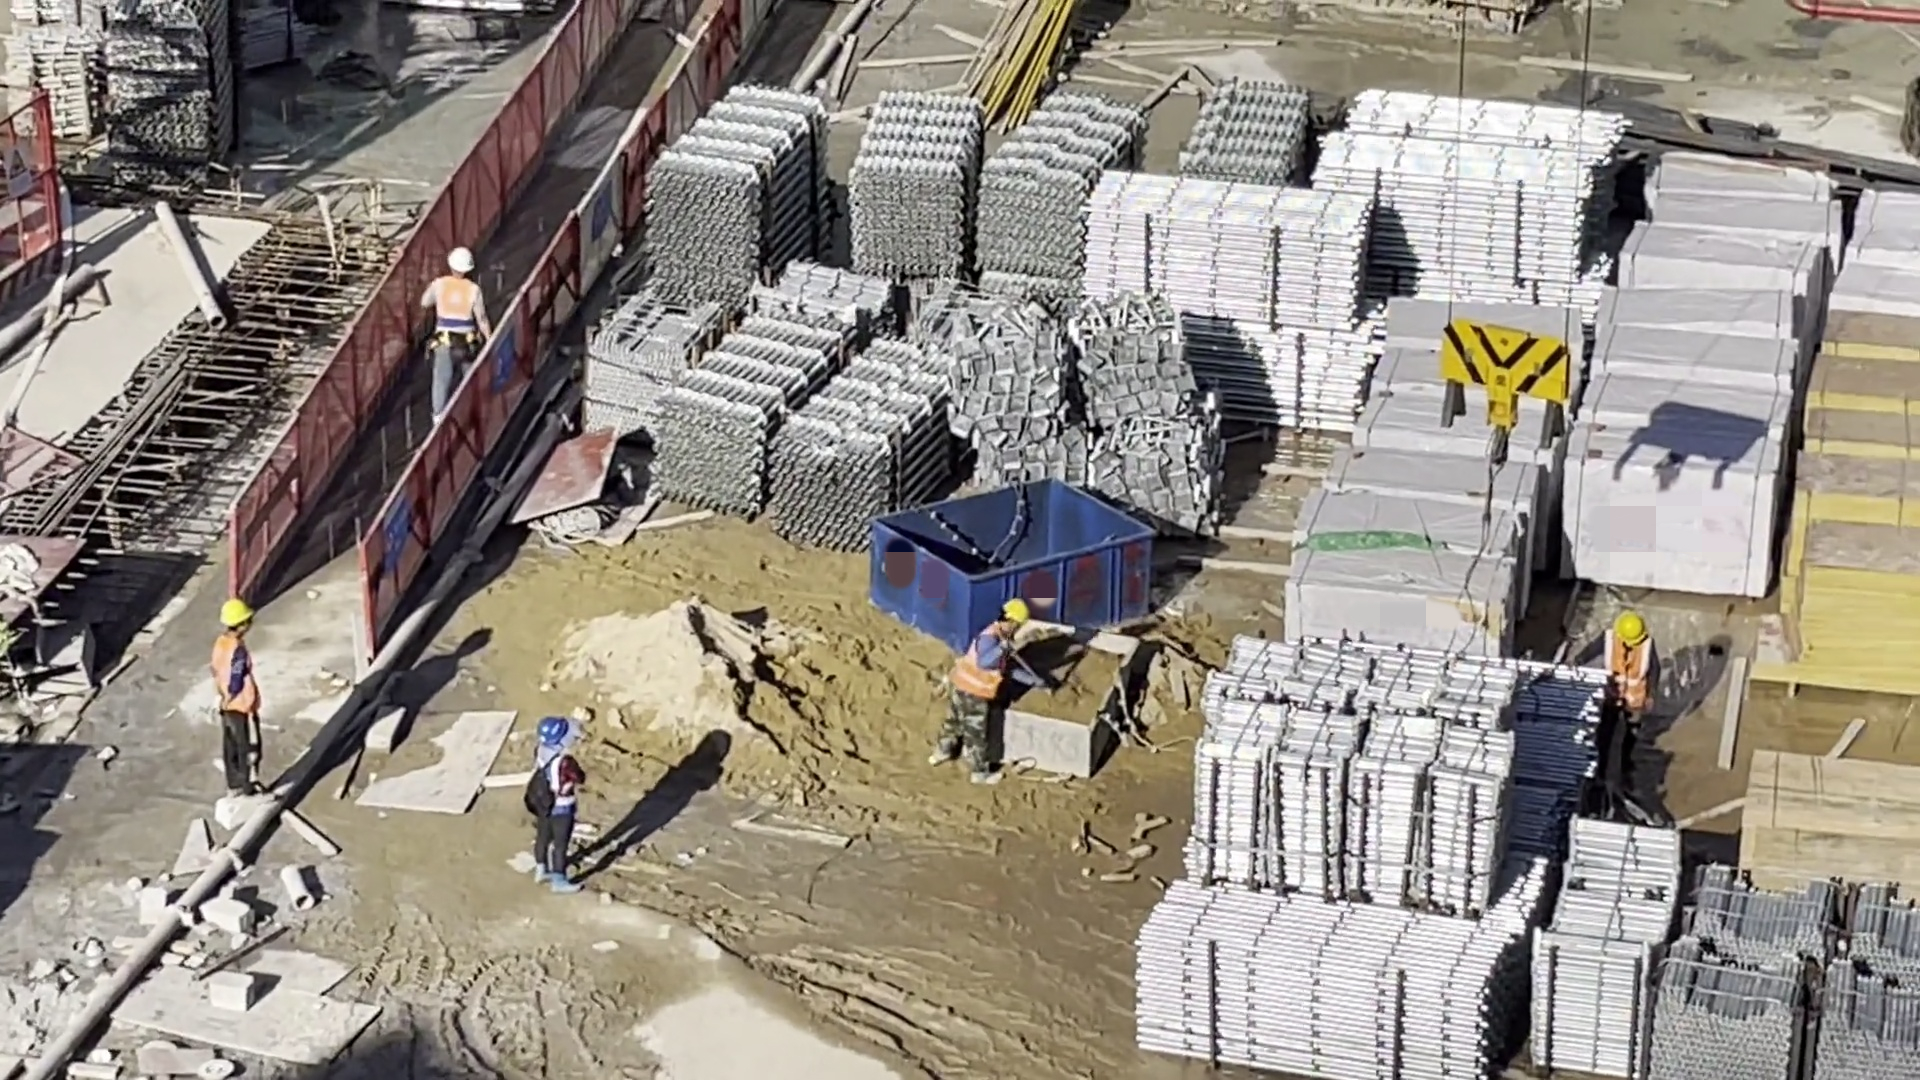fence: (211, 1, 791, 665)
helmet: (209, 599, 277, 650), (1608, 600, 1656, 653), (993, 586, 1034, 630), (436, 239, 474, 282), (539, 712, 574, 750)
hook: (1405, 292, 1567, 454)
hopper: (866, 440, 1140, 631), (982, 603, 1113, 771)
person: (184, 590, 270, 799), (941, 590, 1037, 778), (524, 712, 583, 904), (421, 240, 491, 393), (1584, 595, 1665, 718)
scaffold: (1145, 651, 1646, 1069), (1100, 169, 1372, 404), (1322, 78, 1554, 276), (638, 90, 839, 306), (1702, 877, 1911, 1063), (860, 93, 1065, 259), (736, 276, 902, 457), (1203, 62, 1313, 203)
vest: (207, 636, 259, 706), (966, 621, 1014, 695), (1603, 637, 1654, 695), (533, 757, 572, 817), (438, 278, 480, 327)
